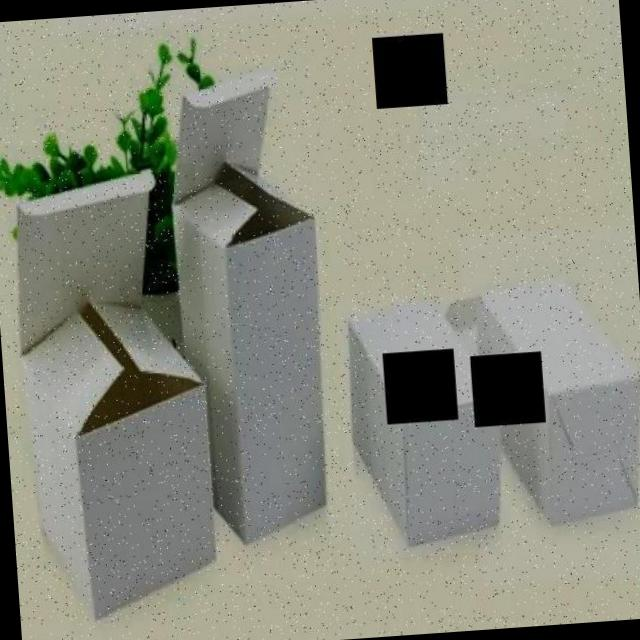box: (1, 162, 226, 627), (159, 65, 342, 551), (457, 224, 640, 585), (335, 289, 516, 562)
